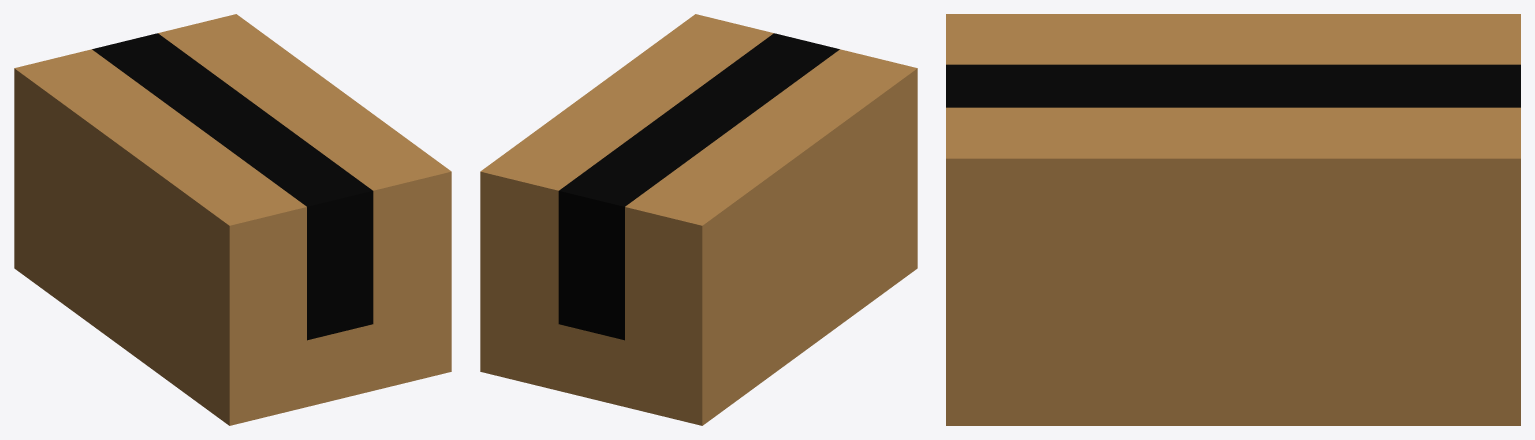
The model's file is boxFinal.fbx.
The picture shows the model from 3 angles, left to right: view 1: azimuth 30°, elevation 25°; view 2: azimuth 150°, elevation 25°; view 3: azimuth 270°, elevation 25°; orthographic projection. The views are drawn at different scales.
Parts seen in each view (by area): view 1: pCube1; view 2: pCube1; view 3: pCube1.
Boxes of the visible parts, x1,y1,x2,y2 form: pCube1: (14, 14, 451, 425); pCube1: (480, 14, 917, 425); pCube1: (946, 14, 1520, 425).
Size of the model in its own units: 1.42 by 1.22 by 2.38.
